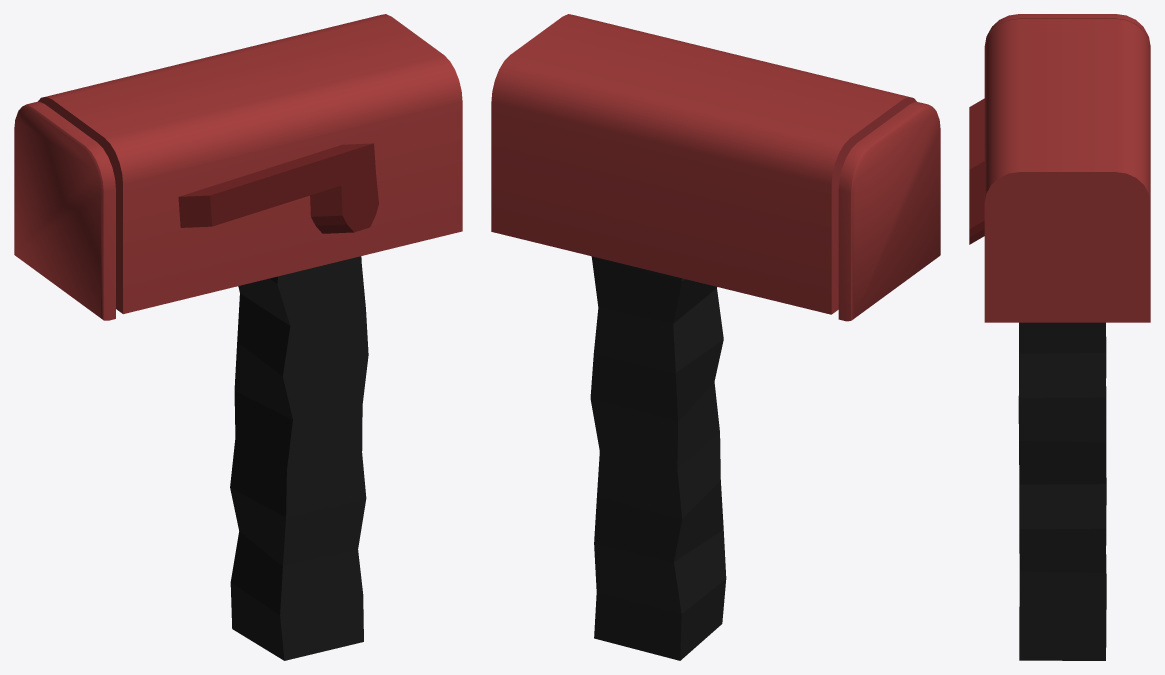
The model's file is mailbox.glb.
The picture shows the model from 3 angles, left to right: view 1: azimuth 30°, elevation 25°; view 2: azimuth 150°, elevation 25°; view 3: azimuth 270°, elevation 25°; orthographic projection. The views are drawn at different scales.
Visible parts, largest first — view 1: Mailbox, Cube, MailDoor, Plane; view 2: Mailbox, Cube, MailDoor; view 3: Mailbox, Cube, Plane, MailDoor.
Boxes of the visible parts, left/top/right/bottom form: Mailbox: left=37, top=14, right=462, bottom=314; Cube: left=230, top=256, right=368, bottom=660; MailDoor: left=14, top=101, right=115, bottom=320; Plane: left=178, top=143, right=378, bottom=233; Mailbox: left=491, top=14, right=916, bottom=314; Cube: left=590, top=256, right=726, bottom=660; MailDoor: left=838, top=101, right=940, bottom=321; Mailbox: left=984, top=19, right=1150, bottom=322; Cube: left=1018, top=322, right=1106, bottom=660; Plane: left=969, top=98, right=984, bottom=244; MailDoor: left=984, top=14, right=1150, bottom=48.
Size of the model in its own units: 1.57 by 2.36 by 0.7387.
